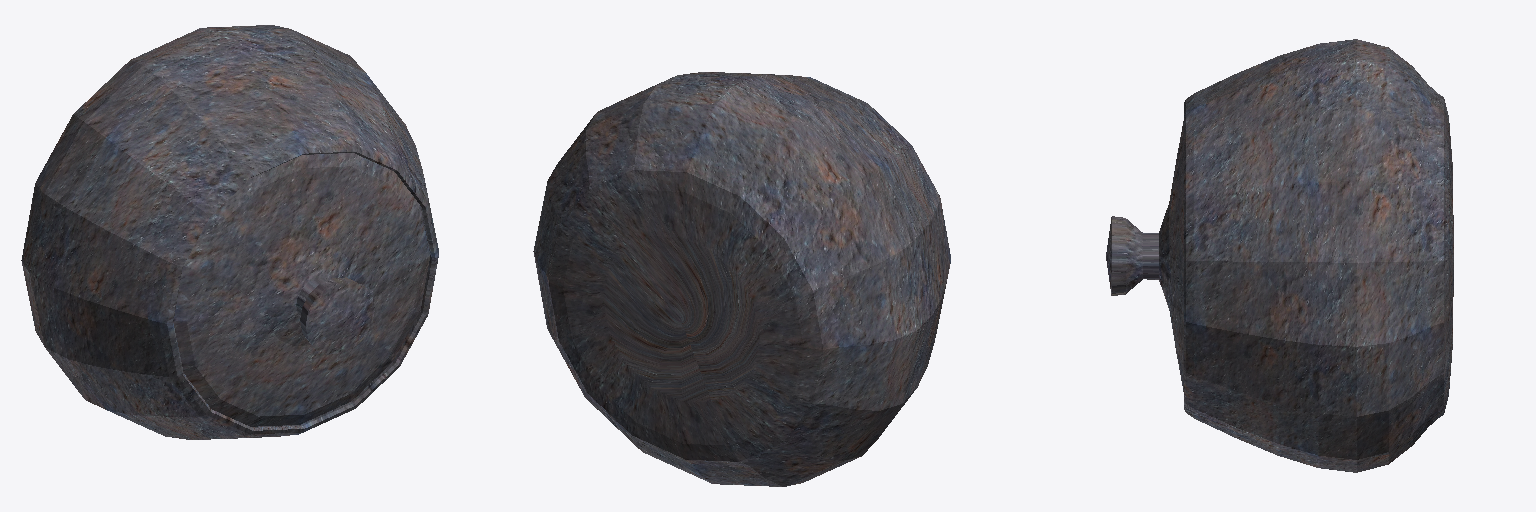
3 renders of one model, left to right at view 1: azimuth 30°, elevation 25°; view 2: azimuth 150°, elevation 25°; view 3: azimuth 270°, elevation 25°, orthographic.
Visible parts, largest first — view 1: DiffOpacity; view 2: DiffOpacity; view 3: DiffOpacity.
Part boxes in pixels (bbox=[...]): DiffOpacity: bbox=[21, 25, 438, 439]; DiffOpacity: bbox=[533, 72, 950, 486]; DiffOpacity: bbox=[1106, 39, 1453, 472].
Size of the model in its own units: 0.9991 by 0.9992 by 0.8037.
Materials: 1 (1 with a texture image).